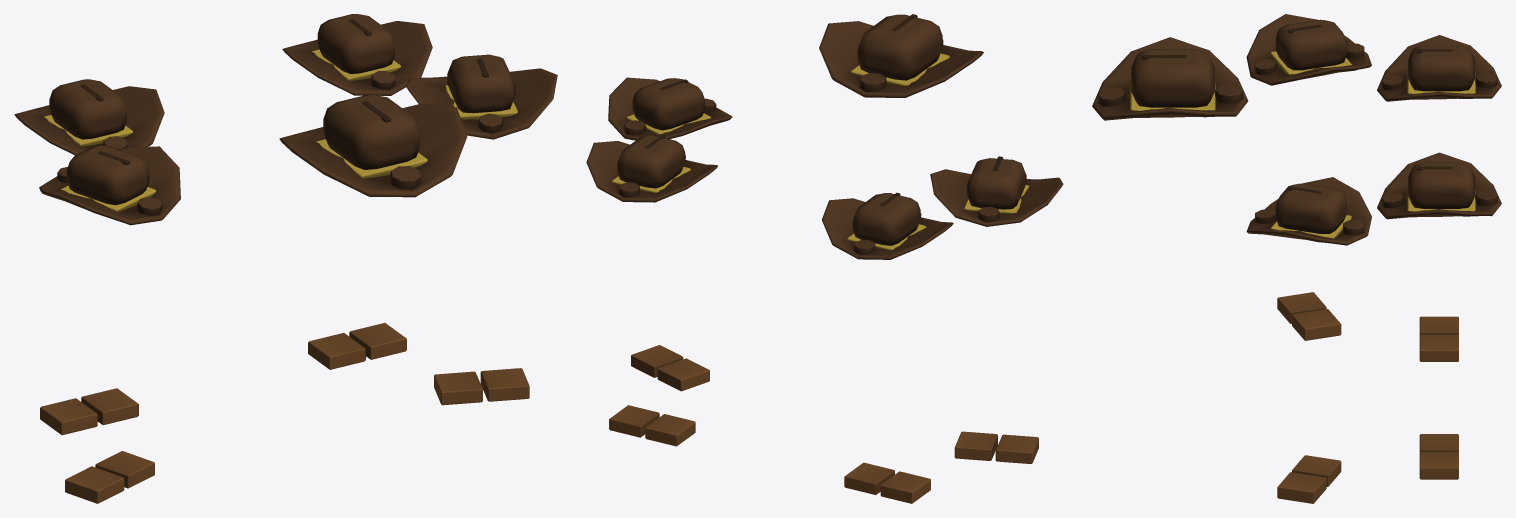
File: suds-posse-lod1.glb
3 views of the same model, side by side, from view 1: azimuth 30°, elevation 25°; view 2: azimuth 150°, elevation 25°; view 3: azimuth 270°, elevation 25° (orthographic). The views are drawn at different scales.
Parts seen in each view (by area): view 1: cap_hat, att0_hat, att3_hat, att2_hat, att1_hat, att3_leg_r_trim, att0_leg_r_trim, att1_leg_r_trim, att2_leg_l_trim, att2_leg_r_trim, att1_leg_l_trim, att0_leg_l_trim (+1 smaller); view 2: cap_hat, att3_hat, att0_hat, att1_hat, att2_hat, att2_leg_r_trim, att1_leg_r_trim, att0_leg_r_trim, att3_leg_l_trim, att3_leg_r_trim, att1_leg_l_trim, att0_leg_l_trim (+1 smaller); view 3: cap_hat, att3_hat, att1_hat, att0_hat, att2_hat, att2_leg_l_trim, att3_leg_l_trim, att0_leg_l_trim, att1_leg_l_trim, att2_leg_r_trim, att3_leg_r_trim, att1_leg_r_trim (+1 smaller).
Part boxes in pixels (x1,y1,x2,y2): cap_hat: (279, 95, 467, 197); att0_hat: (282, 14, 432, 95); att3_hat: (39, 145, 180, 225); att2_hat: (406, 54, 557, 139); att1_hat: (14, 79, 164, 155); att3_leg_r_trim: (65, 466, 124, 503); att0_leg_r_trim: (308, 333, 365, 369); att1_leg_r_trim: (40, 398, 97, 435); att2_leg_l_trim: (480, 368, 529, 401); att2_leg_r_trim: (434, 371, 482, 405); att1_leg_l_trim: (81, 388, 138, 425); att0_leg_l_trim: (349, 323, 406, 359); cap_hat: (819, 14, 983, 97); att3_hat: (930, 156, 1063, 226); att0_hat: (586, 135, 717, 202); att1_hat: (822, 192, 953, 259); att2_hat: (608, 77, 732, 140); att2_leg_r_trim: (657, 358, 709, 391); att1_leg_r_trim: (880, 471, 930, 503); att0_leg_r_trim: (645, 414, 695, 446); att3_leg_l_trim: (954, 431, 997, 460); att3_leg_r_trim: (995, 434, 1038, 463); att1_leg_l_trim: (844, 462, 894, 494); att0_leg_l_trim: (609, 405, 659, 437); cap_hat: (1092, 37, 1248, 120); att3_hat: (1246, 14, 1371, 85); att1_hat: (1377, 35, 1501, 101); att0_hat: (1377, 152, 1501, 219); att2_hat: (1246, 177, 1371, 245); att2_leg_l_trim: (1277, 472, 1326, 503); att3_leg_l_trim: (1292, 309, 1341, 340); att0_leg_l_trim: (1419, 452, 1458, 479); att1_leg_l_trim: (1419, 334, 1458, 361); att2_leg_r_trim: (1292, 455, 1341, 486); att3_leg_r_trim: (1277, 292, 1326, 323); att1_leg_r_trim: (1419, 316, 1458, 334).
Size of the model in its own units: 2.32 by 1.71 by 1.83.
